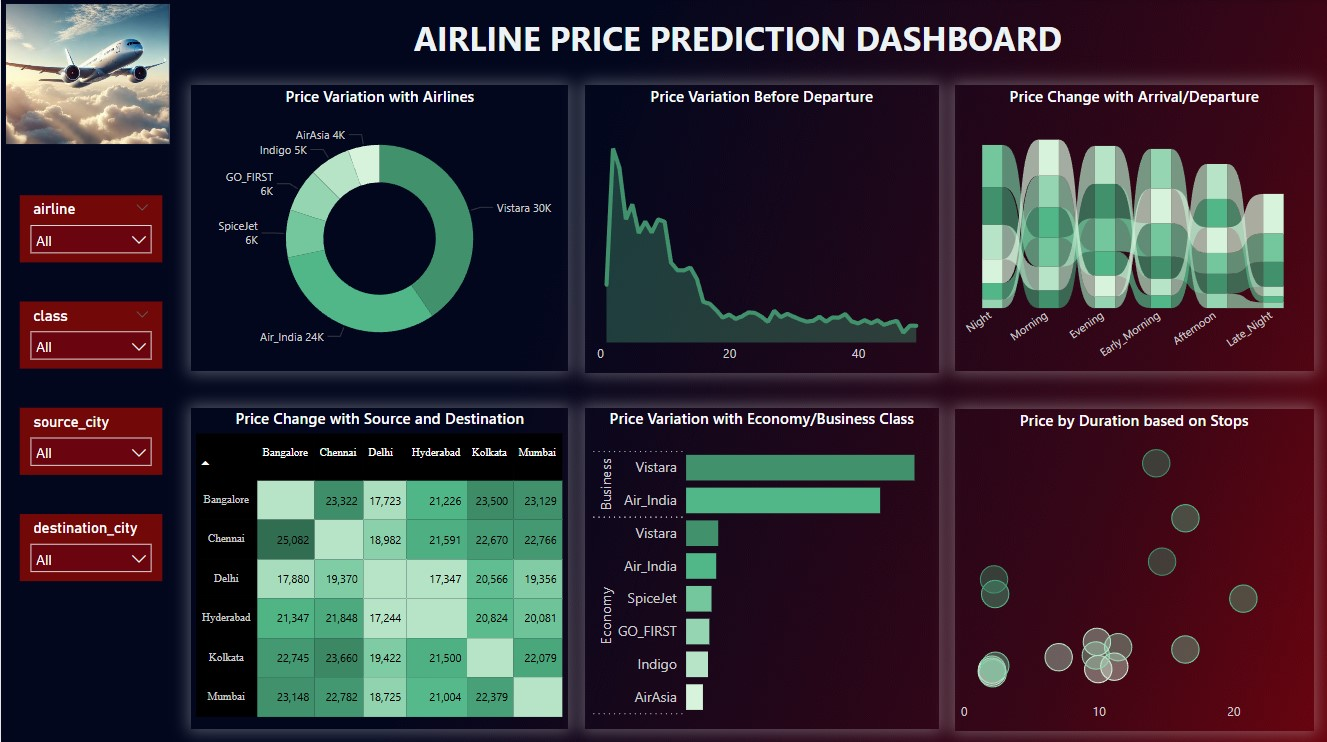

The page's visual inventory and layout, read from the dashboard file:
{"tool":"powerbi","page":{"name":"Airline_Dashboard","canvas":[1280,720],"ordinal":0},"visuals":[{"type":"textbox","box":[155.6,10.9,1111.1,72.4],"z":0},{"type":"donutChart","title":"Price Variation with Airlines","fields":{"Category":["Clean_Dataset.airline"],"Y":["Clean_Dataset.Avg_Price_Airline"]},"box":[183.4,83.2,364.3,276.3],"z":1000},{"type":"areaChart","title":"Price Variation Before Departure","fields":{"Category":["Clean_Dataset.days_left"],"Y":["Clean_Dataset.Price_Days_Left"]},"box":[563.4,83.2,341.4,277.5],"z":2000},{"type":"ribbonChart","title":"Price Change with Arrival/Departure","fields":{"Category":["Clean_Dataset.departure_time"],"Y":["Clean_Dataset.Avg_Price_Airline"],"Series":["Clean_Dataset.arrival_time"]},"box":[920.5,83.2,346.2,276.3],"z":3000},{"type":"pivotTable","title":"Price Change with Source and Destination","fields":{"Rows":["Clean_Dataset.source_city"],"Columns":["Clean_Dataset.destination_city"],"Values":["Clean_Dataset.Avg_Price_Airline"]},"box":[183.4,394.5,364.3,310.1],"z":4000},{"type":"slicer","fields":{"Values":["Clean_Dataset.source_city"]},"box":[18.1,394.5,137.5,65.1],"z":5000},{"type":"slicer","fields":{"Values":["Clean_Dataset.destination_city"]},"box":[18.1,497.1,137.5,65.1],"z":6000},{"type":"slicer","fields":{"Values":["Clean_Dataset.class"]},"box":[18.1,292,137.5,65.1],"z":7000},{"type":"slicer","fields":{"Values":["Clean_Dataset.airline"]},"box":[18.1,189.4,137.5,65.1],"z":8000},{"type":"image","box":[0,0,167.7,144.8],"z":9000},{"type":"barChart","title":"Price Variation with Economy/Business Class","fields":{"Category":["Clean_Dataset.airline","Clean_Dataset.class"],"Y":["Clean_Dataset.Avg_Price_Airline"],"Series":["Clean_Dataset.airline"]},"box":[563.4,394.5,341.4,310.1],"z":10000},{"type":"scatterChart","title":"Price by Duration based on Stops","fields":{"X":["Avg(Clean_Dataset.duration)"],"Y":["Clean_Dataset.Avg_Price_Airline"],"Series":["Clean_Dataset.airline"],"Category":["Clean_Dataset.stops"]},"box":[920.5,395.7,346.2,310.1],"z":11000}]}

Visuals, with their boxes in screenshot pixels (x1, y1, x2, y2), scaled from the page's 1280x720 canvas onto the 1327x742 screenshot:
textbox: 161 11 1313 86
"Price Variation with Airlines" donutChart: 190 86 568 370
"Price Variation Before Departure" areaChart: 584 86 938 372
"Price Change with Arrival/Departure" ribbonChart: 954 86 1313 370
"Price Change with Source and Destination" pivotTable: 190 407 568 726
slicer - Clean_Dataset.source_city: 19 407 161 474
slicer - Clean_Dataset.destination_city: 19 512 161 579
slicer - Clean_Dataset.class: 19 301 161 368
slicer - Clean_Dataset.airline: 19 195 161 262
image: 0 0 174 149
"Price Variation with Economy/Business Class" barChart: 584 407 938 726
"Price by Duration based on Stops" scatterChart: 954 408 1313 727
